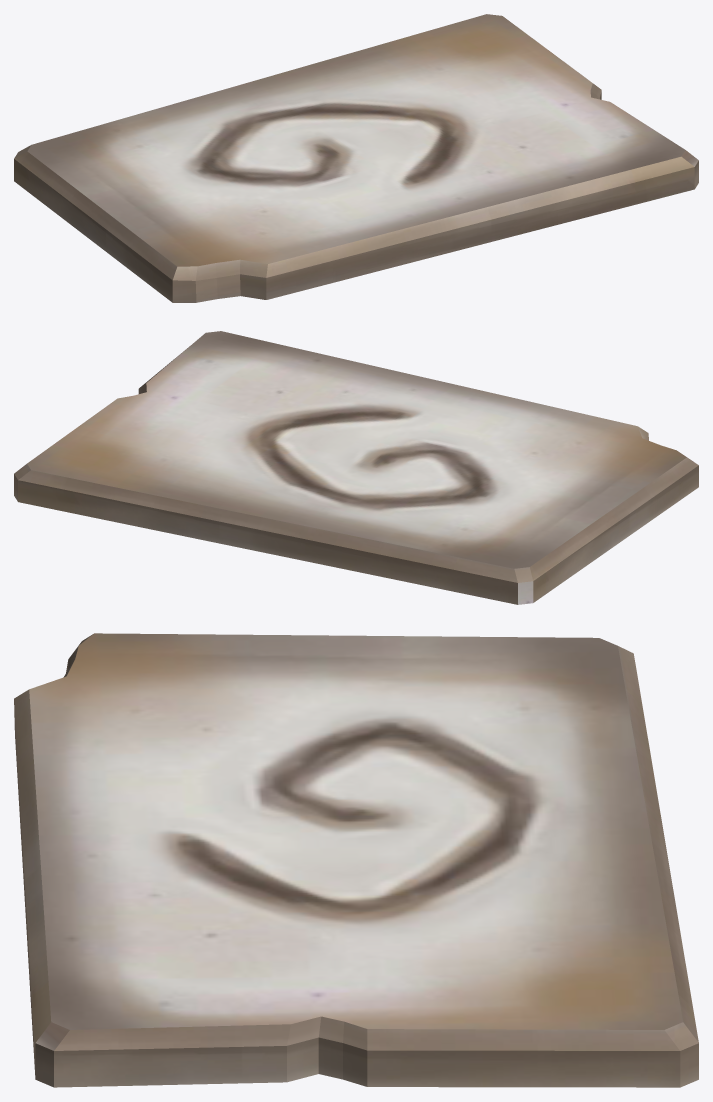
File: 跳板小fbx.fbx
3 renders of one model, top to bottom at view 1: azimuth 30°, elevation 25°; view 2: azimuth 150°, elevation 25°; view 3: azimuth 270°, elevation 25°, orthographic. The views are drawn at different scales.
Parts seen in each view (by area): view 1: 立方體.002; view 2: 立方體.002; view 3: 立方體.002.
Boxes of the visible parts, x1=… form: 立方體.002: x1=14, y1=14, x2=698, y2=302; 立方體.002: x1=14, y1=331, x2=698, y2=604; 立方體.002: x1=14, y1=633, x2=698, y2=1087.
Bounding box in the file's own units: 779 × 45.07 × 550.
Materials: 1 (1 with a texture image).
